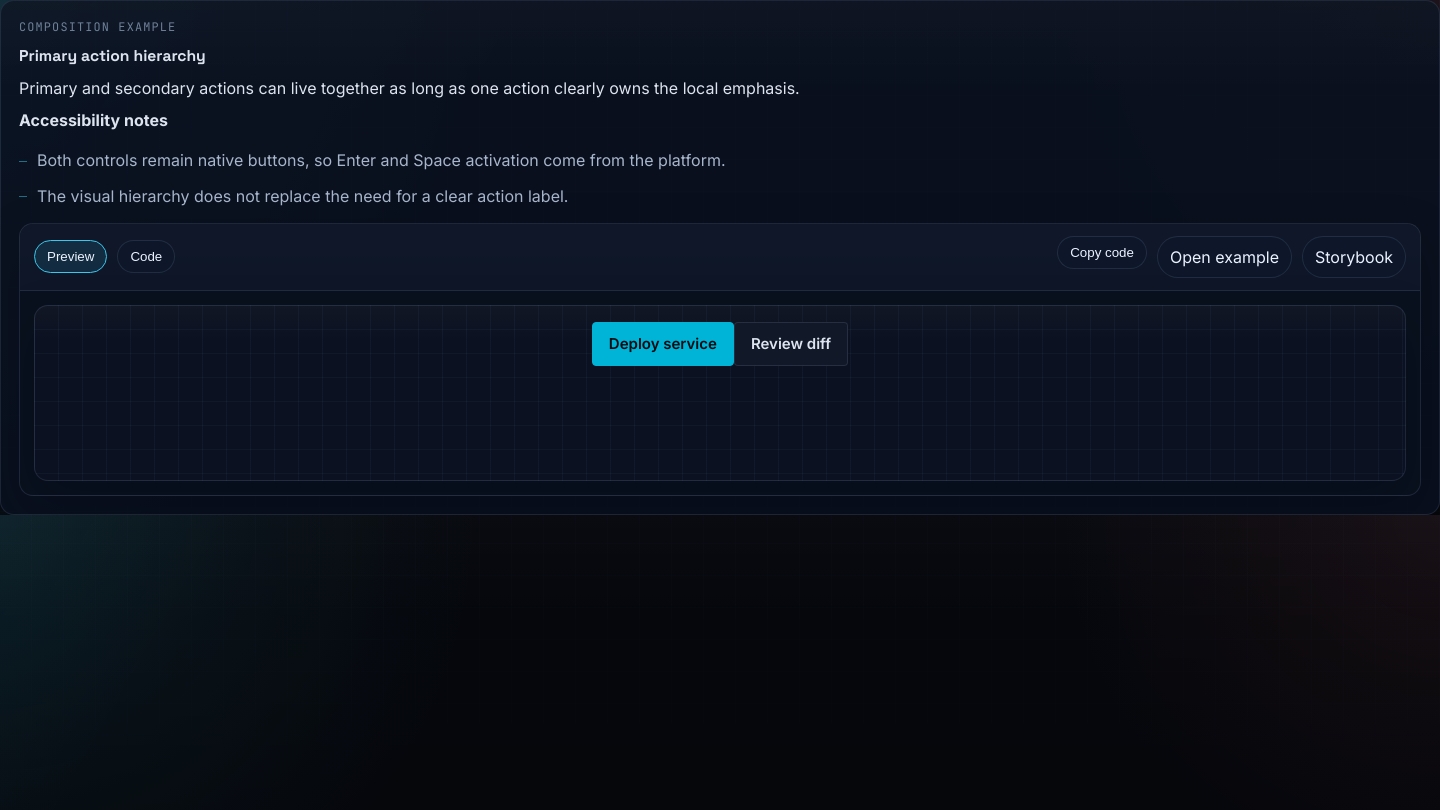
Scenario: ComponentExampleSection › switches between preview and code panels
Click the tab "Code" at x=146, y=257, box [117,240,175,273]
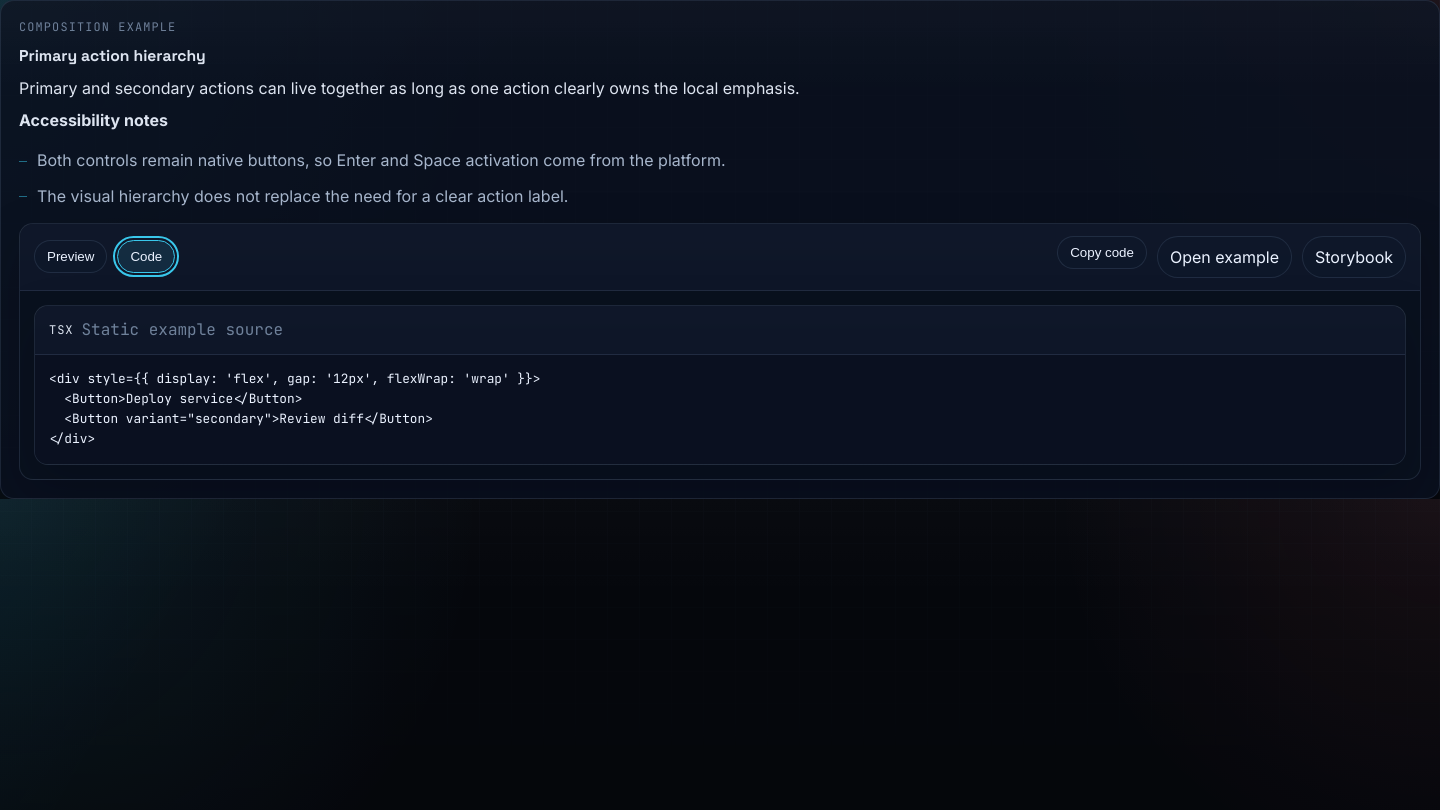
expect the text "<Button>Deploy service</Button>" is shown: met, box [49,370,540,448]
